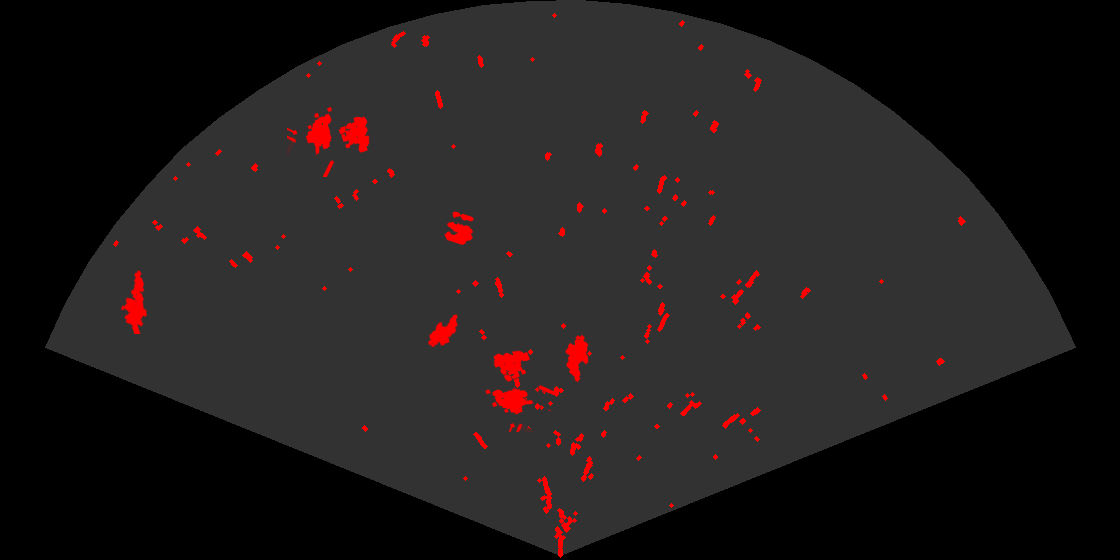AUV: (564, 333, 590, 384), (426, 312, 460, 349)
ball: (443, 210, 476, 247)
cage: (287, 105, 371, 177), (484, 349, 554, 432)
frogman: (119, 268, 149, 334)
